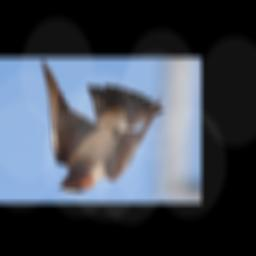Swallow: (41, 58, 163, 193)
